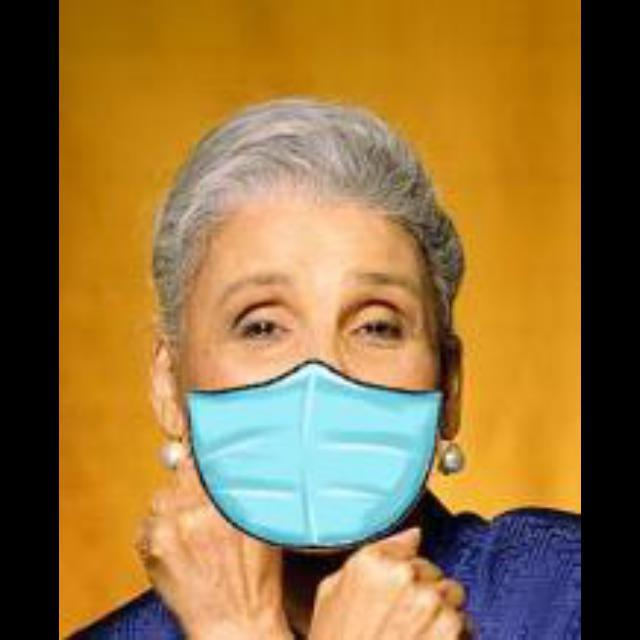suspicion: (164, 117, 530, 598)
